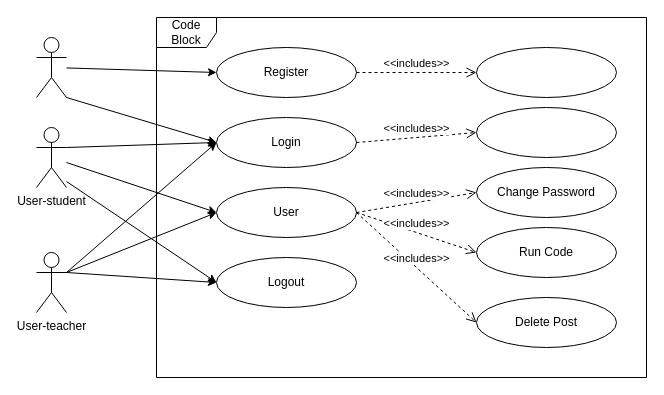
The diagram is 664 pixels wide and 395 high, and some of its shapes have lost their labels. The centre of each missing label's shape, as x and y in pixels:
"Guest" belongs at (51,67).
"Verify Data" belongs at (546,72).
"Verify Password" belongs at (546,132).
